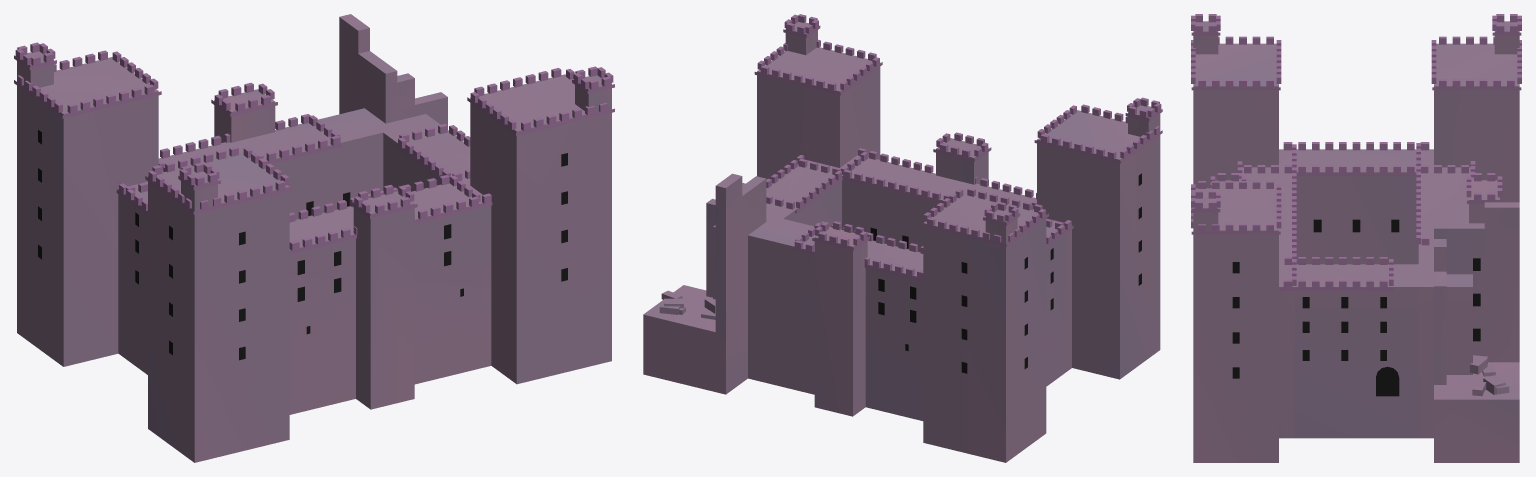
The model's file is bolton.glb.
The picture shows the model from 3 angles, left to right: view 1: azimuth 30°, elevation 25°; view 2: azimuth 150°, elevation 25°; view 3: azimuth 270°, elevation 25°; orthographic projection. The views are drawn at different scales.
Visible parts, largest first — view 1: castle#far, windows; view 2: castle#far, windows; view 3: castle#far, windows.
Boxes of the visible parts, x1,y1,x2,y2 form: castle#far: [14, 14, 614, 462]; windows: [38, 130, 567, 360]; castle#far: [643, 14, 1162, 462]; windows: [870, 173, 1141, 373]; castle#far: [1191, 14, 1521, 462]; windows: [1232, 219, 1480, 396].
Bounding box in the file's own units: 57.6 × 37.1 × 42.6.
